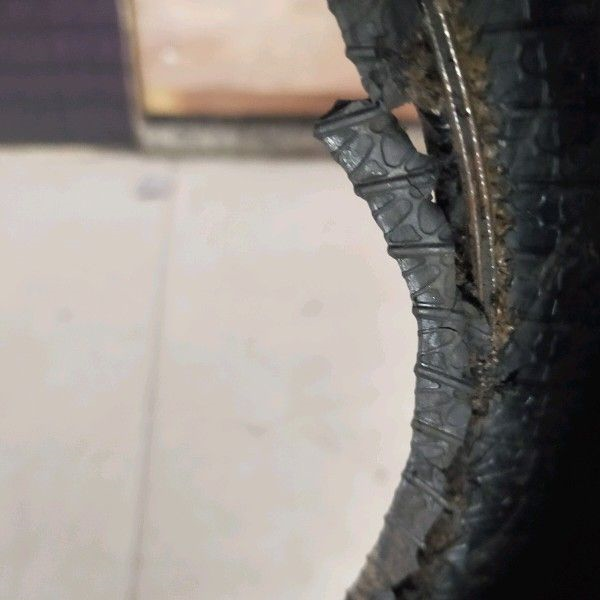bead_damage: (302, 6, 558, 599)
